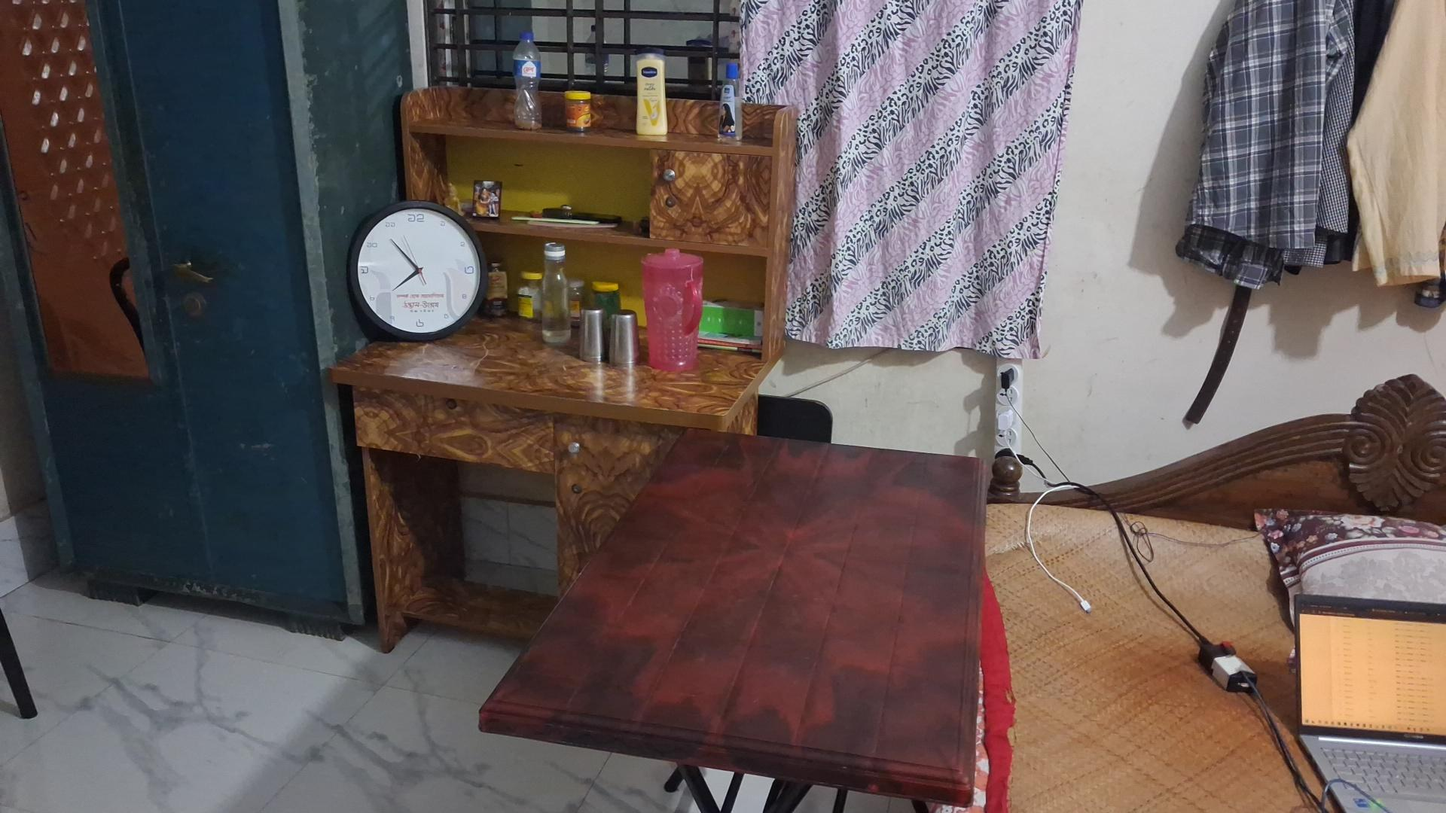Bottle: (633, 51, 673, 140), (511, 29, 543, 129), (539, 242, 569, 346), (716, 62, 742, 142)
Box: (701, 296, 764, 340)
Clock: (345, 200, 488, 342)
Glass: (575, 307, 605, 366), (607, 311, 638, 367)
Jar: (517, 269, 542, 321), (487, 260, 511, 314), (563, 92, 594, 132)
Jug: (639, 249, 704, 374)
Laptop: (1291, 599, 1445, 806)
Pillow: (1253, 497, 1446, 607)
Table: (472, 403, 990, 808)
